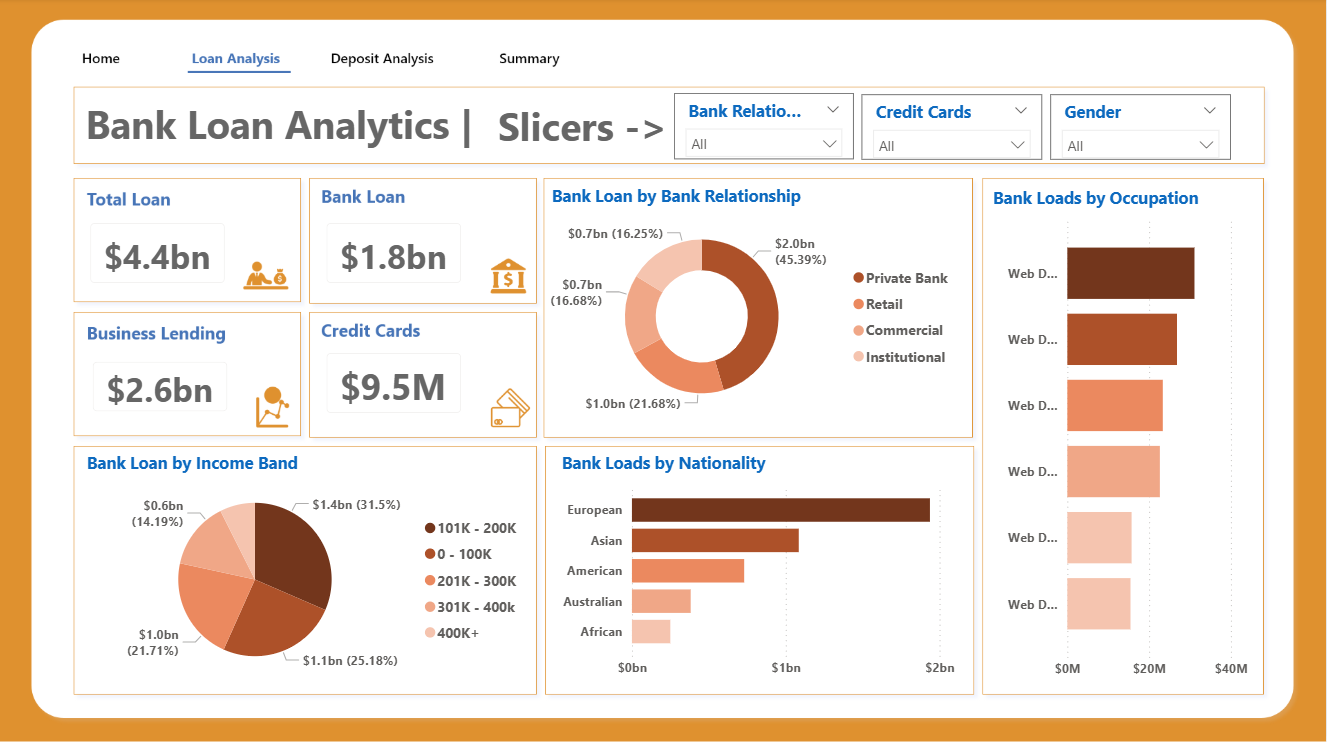

What the dashboard file says about the page in this screenshot:
{"tool":"powerbi","page":{"name":"Loan Analytics","canvas":[1280,720],"ordinal":1},"visuals":[{"type":"cardVisual","fields":{"Data":["project bank.Total Loan"]},"box":[76.4,204.9,154.4,82.6],"z":0},{"type":"cardVisual","fields":{"Data":["Sum(project bank.Bank Loans)"]},"box":[304.3,204.9,154.4,82.6],"z":1000},{"type":"cardVisual","fields":{"Data":["Sum(project bank.Business Lending)"]},"box":[78,339.5,154.7,72.9],"z":2000},{"type":"cardVisual","fields":{"Data":["Sum(project bank.Credit Card Balance)"]},"box":[304.3,330.2,154.4,82.6],"z":3000},{"type":"pieChart","title":"Bank Loan by Income Band","fields":{"Category":["project bank.Income BandCustom"],"Y":["project bank.Total Loan"]},"box":[79.5,437.3,434.2,227.8],"z":4000},{"type":"textbox","box":[78,91.8,398.6,61.6],"z":5000},{"type":"donutChart","title":"Bank Loan by Bank Relationship","fields":{"Category":["project bank.Bank Relationship"],"Y":["project bank.Total Loan"]},"box":[528.1,179.8,401.1,233.9],"z":6000},{"type":"clusteredBarChart","title":"Bank Loads by Nationality","fields":{"Category":["project bank.Nationality"],"Y":["project bank.Total Loan"]},"box":[538.2,437.3,389.9,227.8],"z":7000},{"type":"clusteredBarChart","title":"Bank Loads by Occupation","fields":{"Category":["project bank.Occupation"],"Y":["project bank.Total Loan"]},"box":[954.1,180.4,256.9,484.7],"z":8000},{"type":"textbox","box":[476.5,93,186.1,61.6],"z":9000},{"type":"slicer","fields":{"Values":["project bank.Bank Relationship"]},"box":[651.3,91.8,173.5,64.1],"z":10000},{"type":"slicer","fields":{"Values":["project bank.Amount of Credit Cards"]},"box":[832.4,93,174,62.9],"z":11000},{"type":"slicer","fields":{"Values":["project bank.GenderId"]},"box":[1014.7,93,174,62.9],"z":12000},{"type":"actionButton","box":[316.1,36.2,100.1,39.8],"z":12001},{"type":"actionButton","box":[66.4,36.2,100.1,39.8],"z":12003},{"type":"actionButton","box":[464.5,37.4,100.1,39.8],"z":12004}]}

Visuals, with their boxes in screenshot pixels (x1, y1, x2, y2), scaled from the page's 1280x720 canvas onto the 1327x742 screenshot:
cardVisual - project bank.Total Loan: region(79, 211, 239, 296)
cardVisual - Sum(project bank.Bank Loans): region(315, 211, 476, 296)
cardVisual - Sum(project bank.Business Lending): region(81, 350, 241, 425)
cardVisual - Sum(project bank.Credit Card Balance): region(315, 340, 476, 425)
"Bank Loan by Income Band" pieChart: region(82, 451, 533, 685)
textbox: region(81, 95, 494, 158)
"Bank Loan by Bank Relationship" donutChart: region(547, 185, 963, 426)
"Bank Loads by Nationality" clusteredBarChart: region(558, 451, 962, 685)
"Bank Loads by Occupation" clusteredBarChart: region(989, 186, 1255, 685)
textbox: region(494, 96, 687, 159)
slicer - project bank.Bank Relationship: region(675, 95, 855, 161)
slicer - project bank.Amount of Credit Cards: region(863, 96, 1043, 161)
slicer - project bank.GenderId: region(1052, 96, 1232, 161)
actionButton: region(328, 37, 431, 78)
actionButton: region(69, 37, 173, 78)
actionButton: region(482, 39, 585, 80)
